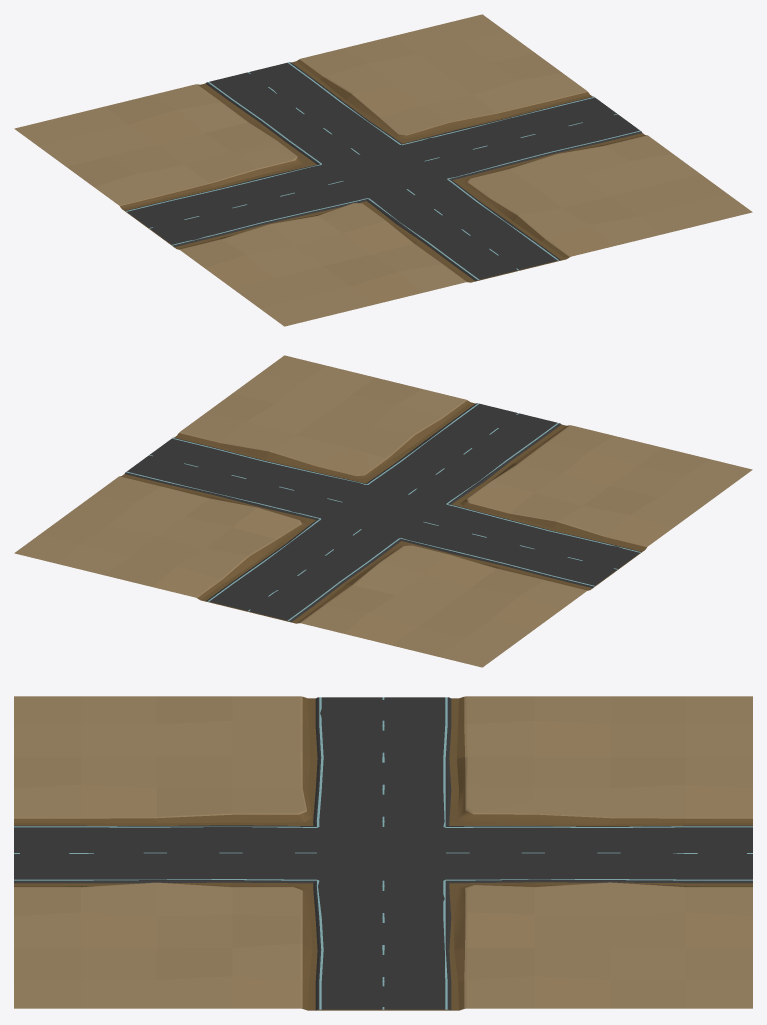
The model's file is model_road_dirt_crossroad_01.fbx.
The picture shows the model from 3 angles, top to bottom: view 1: azimuth 30°, elevation 25°; view 2: azimuth 150°, elevation 25°; view 3: azimuth 270°, elevation 25°; orthographic projection. The views are drawn at different scales.
Visible parts, largest first — view 1: model_road_dirt_crossroad_01; view 2: model_road_dirt_crossroad_01; view 3: model_road_dirt_crossroad_01.
Boxes of the visible parts, left/top/right/bottom form: model_road_dirt_crossroad_01: left=14, top=14, right=752, bottom=326; model_road_dirt_crossroad_01: left=14, top=355, right=752, bottom=667; model_road_dirt_crossroad_01: left=14, top=696, right=752, bottom=1010.
Bounding box in the file's own units: 6000 × 62.08 × 6000.
1 material, 1 textured.
